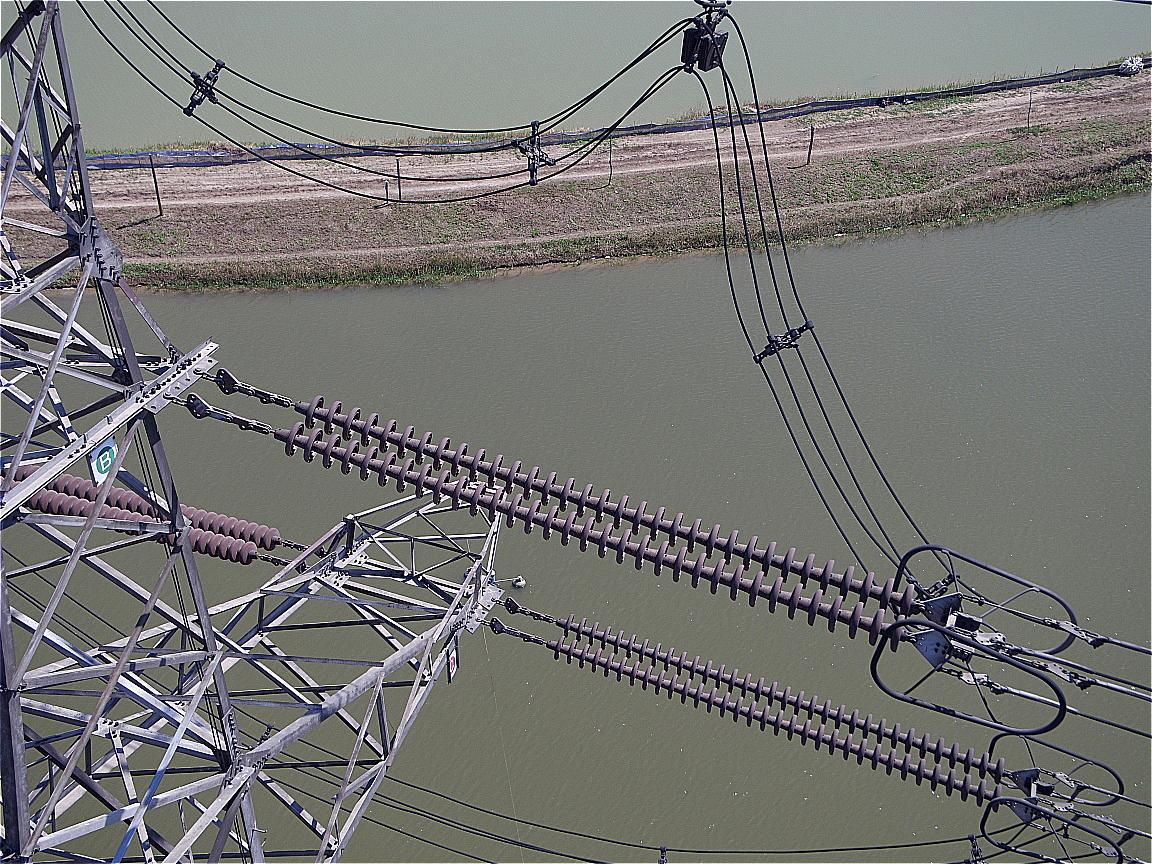insultor1: (285, 394, 917, 652), (553, 616, 1006, 811), (6, 463, 280, 566)
